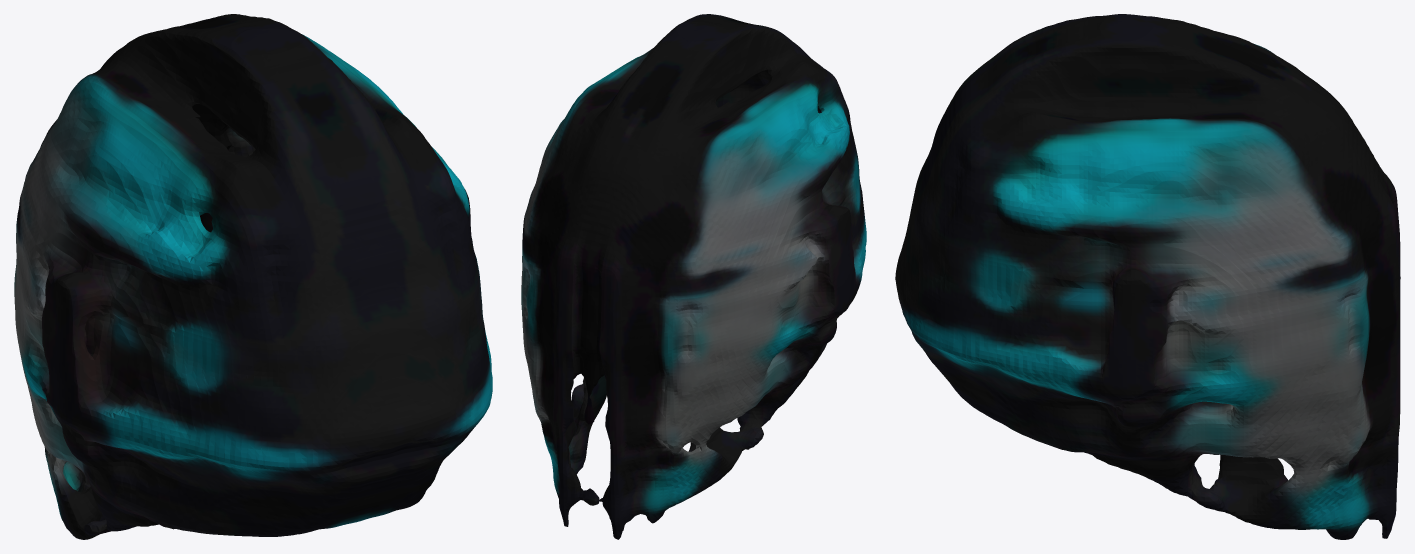
The model's file is cyberpunk-helmet.glb.
3 renders of one model, left to right at view 1: azimuth 30°, elevation 25°; view 2: azimuth 150°, elevation 25°; view 3: azimuth 270°, elevation 25°, orthographic. The views are drawn at different scales.
Parts seen in each view (by area): view 1: tmpa82kjod9.ply; view 2: tmpa82kjod9.ply; view 3: tmpa82kjod9.ply.
Boxes of the visible parts, x1,y1,x2,y2 form: tmpa82kjod9.ply: (14,14,492,539); tmpa82kjod9.ply: (521,14,866,539); tmpa82kjod9.ply: (895,14,1400,539).
Bounding box in the file's own units: 1.43 × 1.96 × 1.81.
